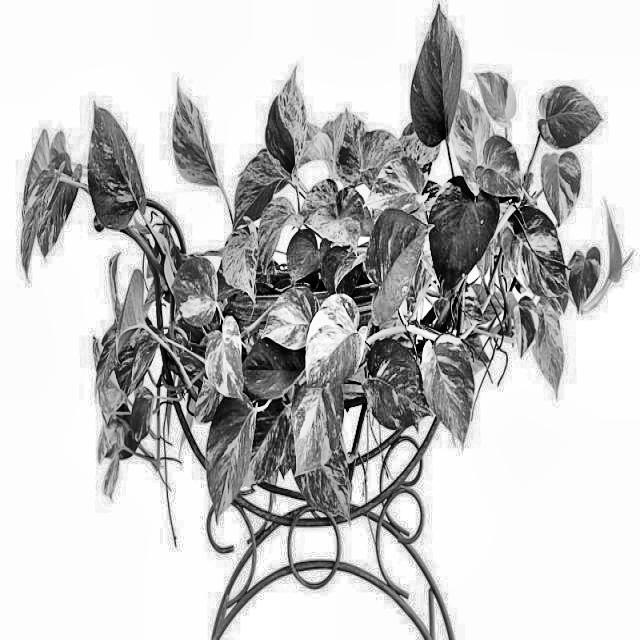plants: (26, 67, 622, 491)
